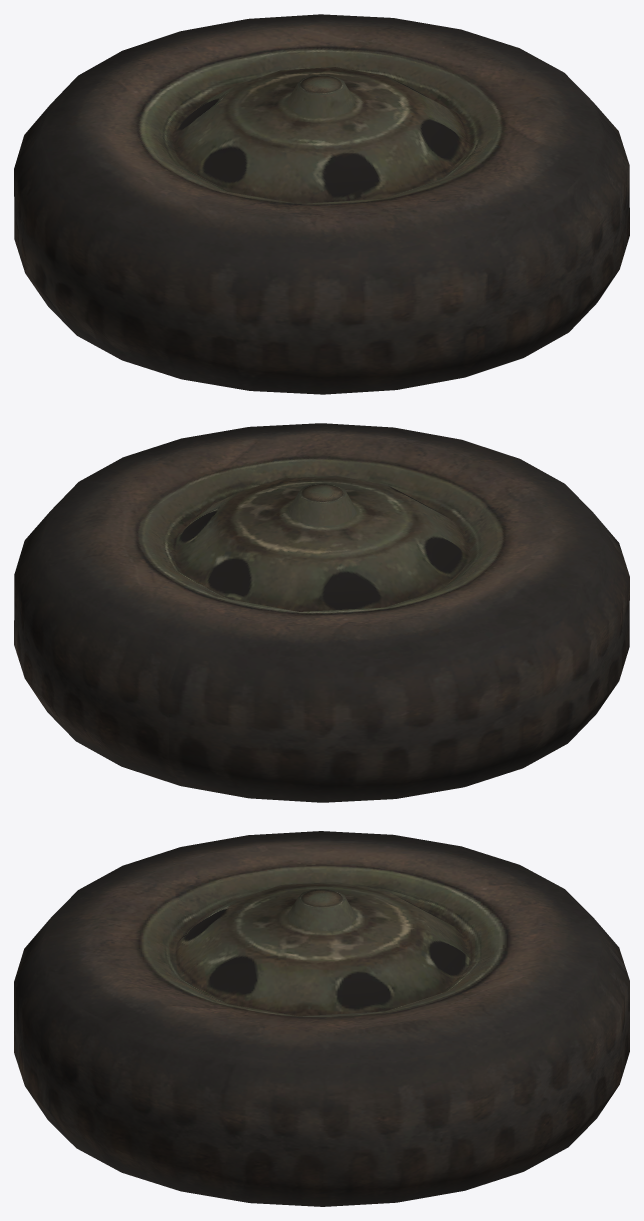
Rendered from front_tire.obj.
The picture shows the model from 3 angles, top to bottom: view 1: azimuth 30°, elevation 25°; view 2: azimuth 150°, elevation 25°; view 3: azimuth 270°, elevation 25°; orthographic projection.
Bounding box in the file's own units: 1.07 × 0.3872 × 1.07.
1 material, 1 textured.
